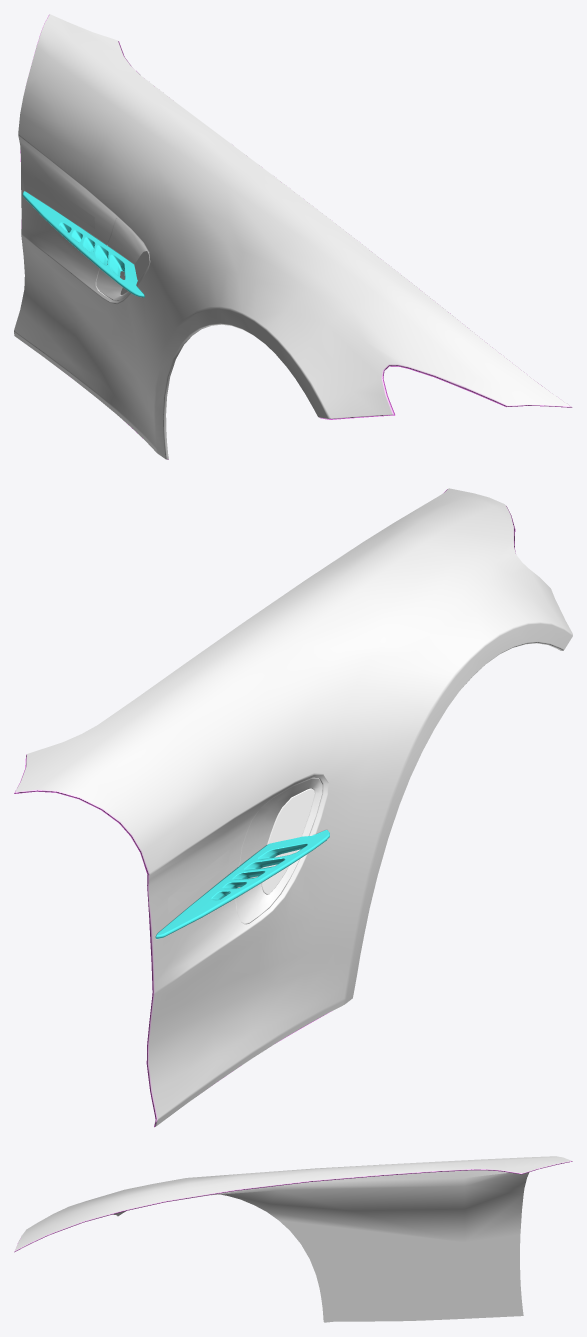
File: Car_MercedesBenz_AMGGT_2015_FenderFR_SetGTR.fbx
The picture shows the model from 3 angles, top to bottom: view 1: azimuth 30°, elevation 25°; view 2: azimuth 150°, elevation 25°; view 3: azimuth 270°, elevation 25°; orthographic projection. The views are drawn at different scales.
Parts seen in each view (by area): view 1: FenderFR 6; view 2: FenderFR 6; view 3: FenderFR 6.
Part boxes in pixels (box(x1,y1,x2,y2)): FenderFR 6: box(14, 14, 572, 459); FenderFR 6: box(14, 488, 572, 1127); FenderFR 6: box(14, 1156, 572, 1322).
Size of the model in its own units: 0.3898 by 0.6036 by 1.65.
